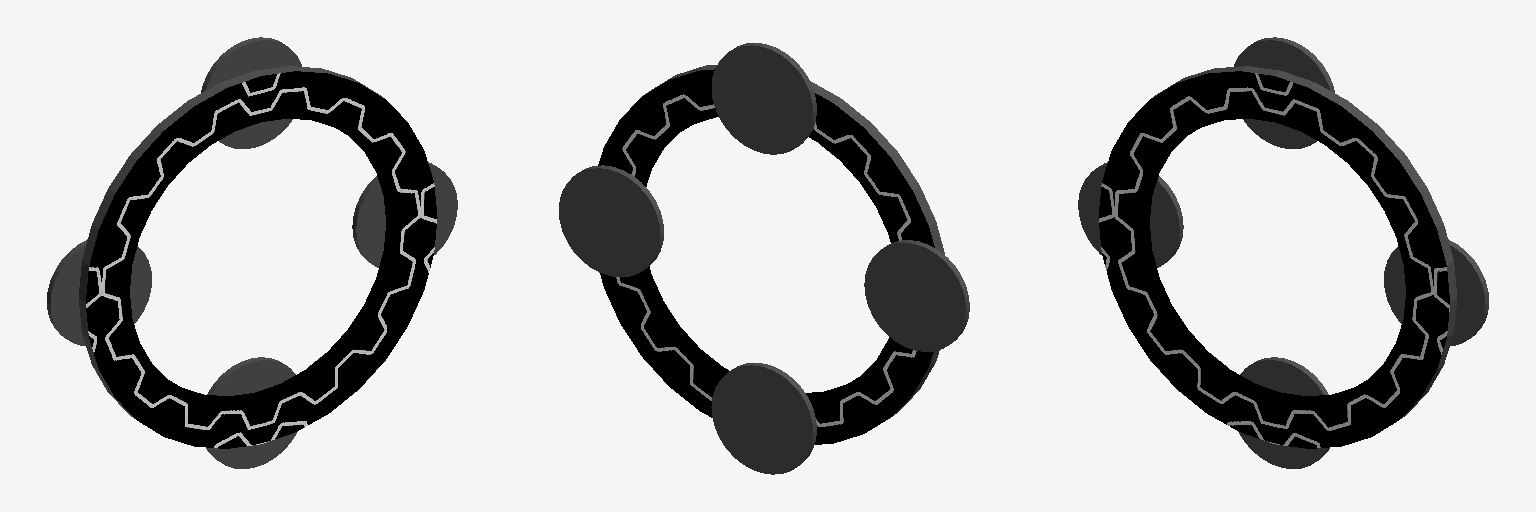
The picture shows the model from 3 angles: view 1: azimuth 30°, elevation 25°; view 2: azimuth 150°, elevation 25°; view 3: azimuth 330°, elevation 25°; orthographic projection.
Visible parts, largest first — view 1: 円柱.001; view 2: 円柱.001; view 3: 円柱.001.
Boxes of the visible parts, <box> form: 円柱.001: <box>47,37,457,468</box>; 円柱.001: <box>559,43,969,474</box>; 円柱.001: <box>1078,37,1488,468</box>.
Bounding box in the file's own units: 19.33 × 19.33 × 0.9213.
Materials: 1 (1 with a texture image).